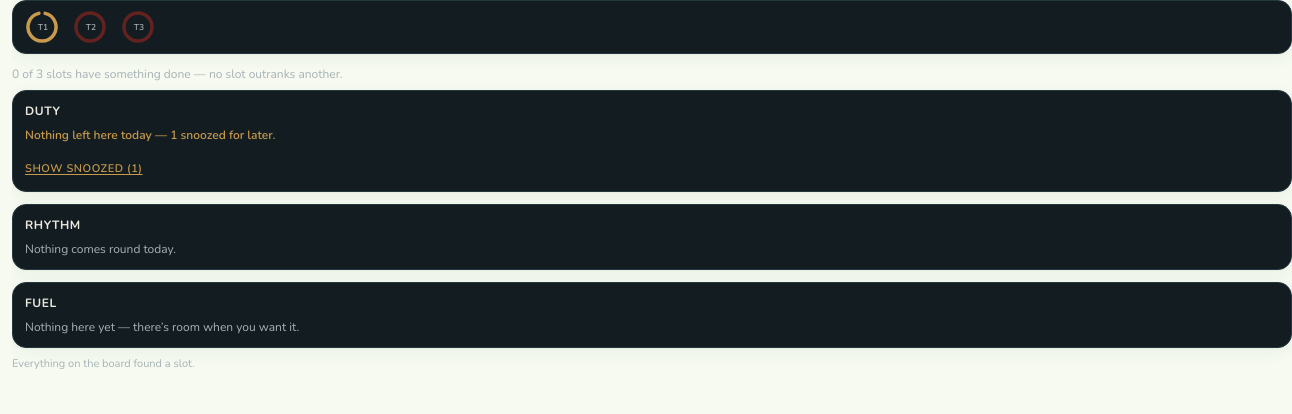
Test: SlotBoard — a snoozed duty is not a finished duty › renders SNOOZED, not struck through and not "✓ Done"
The image size is (1292, 414).
# The drill is collapsed by default, so open it to reach the row.
Click the button with test id "board-show-snoozed-duty": [84, 169] box x1=25 y1=161 x2=143 y2=178
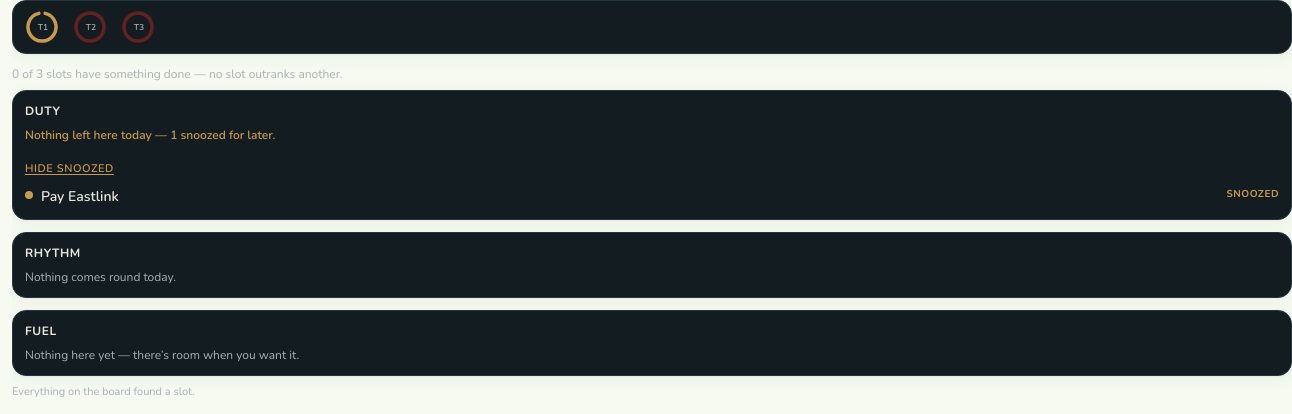
Expected: the text with test id "board-item-snoozed" reads "Snoozed", x1=1226 y1=187 x2=1279 y2=201
